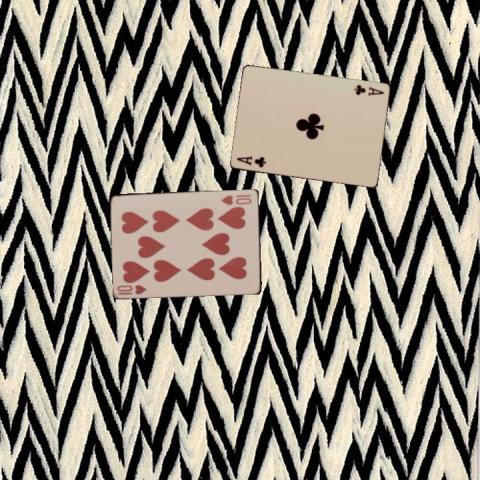10h: (219, 191, 253, 206), (114, 281, 148, 296)
Ac: (352, 81, 386, 97), (234, 153, 267, 169)
